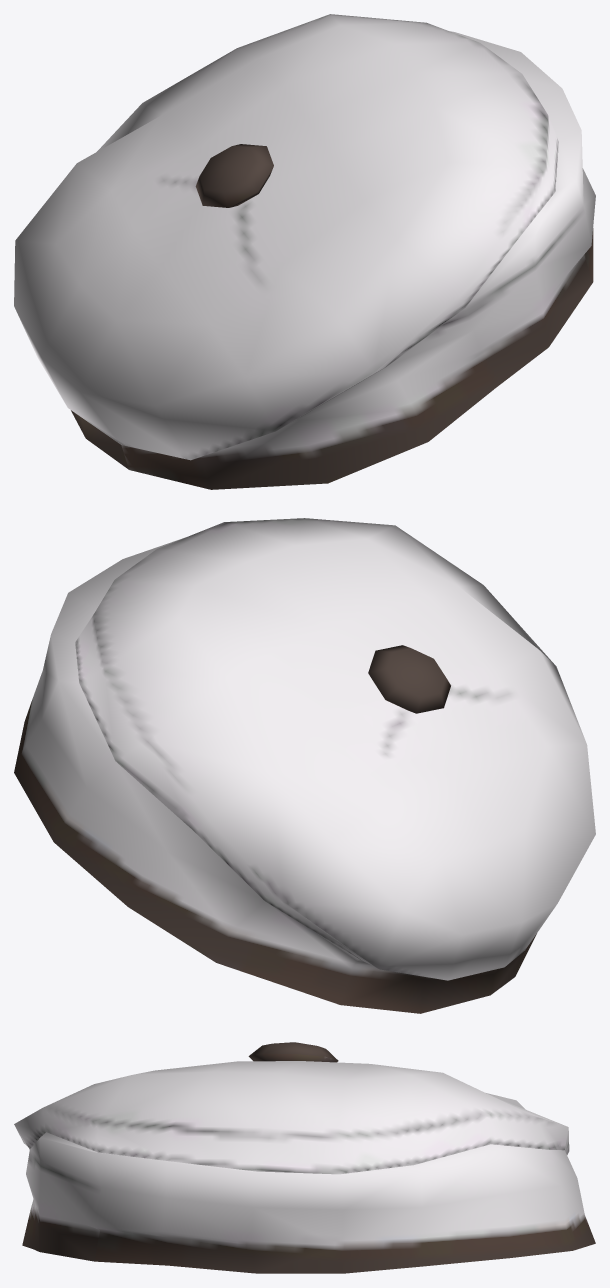
The model's file is _headwear_009.fbx.
3 renders of one model, top to bottom at view 1: azimuth 30°, elevation 25°; view 2: azimuth 150°, elevation 25°; view 3: azimuth 270°, elevation 25°, orthographic. The views are drawn at different scales.
Parts seen in each view (by area): view 1: f_headwear_009; view 2: f_headwear_009; view 3: f_headwear_009.
Part boxes in pixels (x1,y1,x2,y2): f_headwear_009: (14, 14, 595, 489); f_headwear_009: (14, 518, 595, 1013); f_headwear_009: (14, 1042, 595, 1273).
Bounding box in the file's own units: 19.53 × 13.29 × 22.03.
